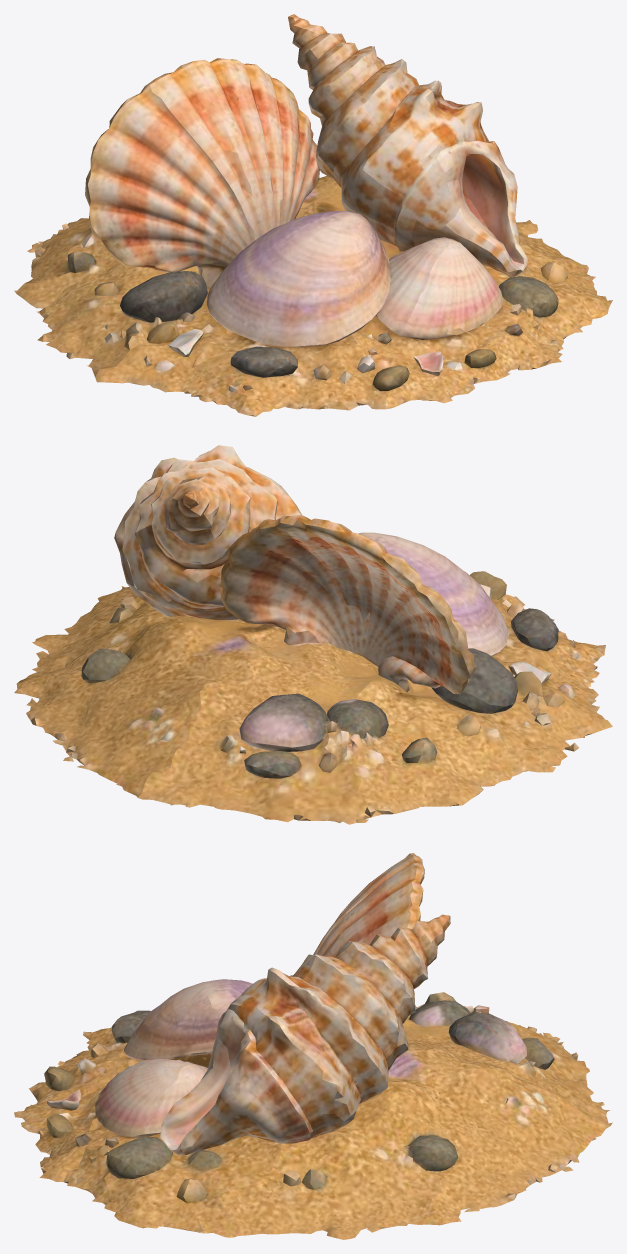
File: seashells_lite.glb
3 renders of one model, top to bottom at view 1: azimuth 30°, elevation 25°; view 2: azimuth 150°, elevation 25°; view 3: azimuth 270°, elevation 25°, orthographic. The views are drawn at different scales.
Visible parts, largest first — view 1: geometry_0; view 2: geometry_0; view 3: geometry_0.
Boxes of the visible parts, x1=… form: geometry_0: x1=14, y1=14, x2=612, y2=416; geometry_0: x1=14, y1=445, x2=612, y2=824; geometry_0: x1=14, y1=853, x2=612, y2=1239.
Size of the model in its own units: 1.84 by 0.7868 by 1.88.
Materials: 1 (1 with a texture image).
